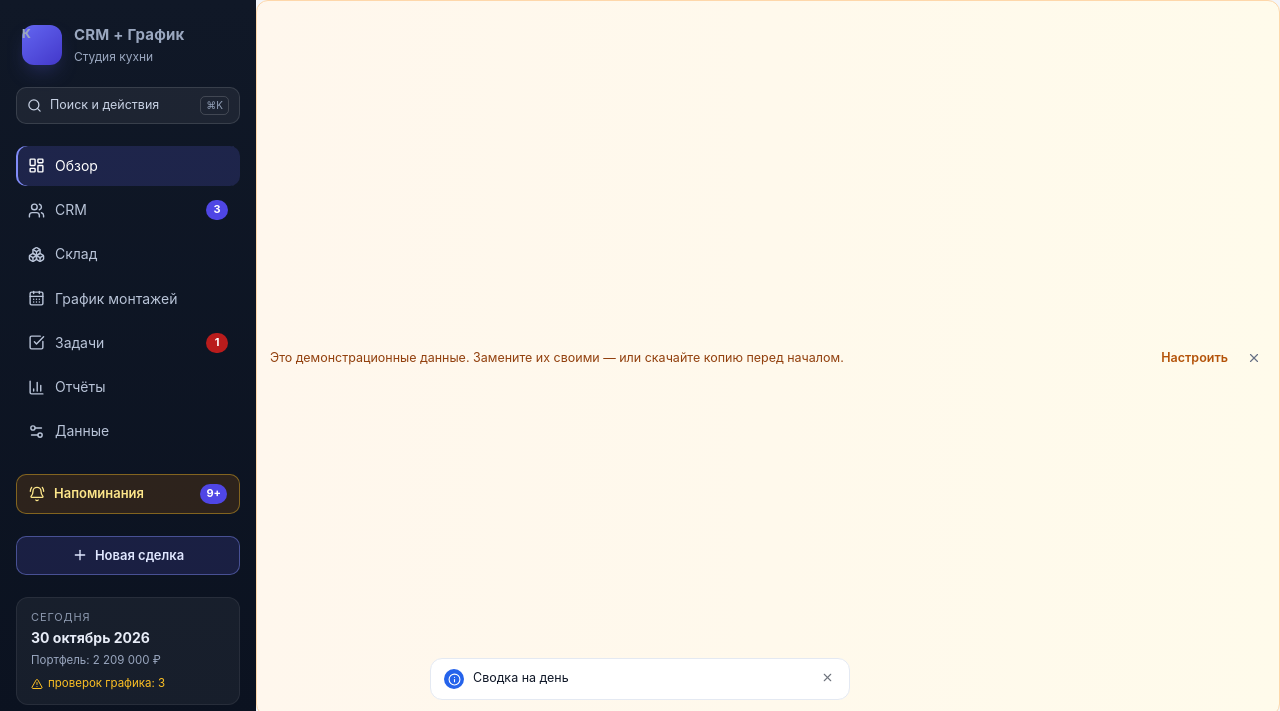
раздел «Отчёты» › показывает ошибку, если своя дата «с» позже «по»
Click the button "Отчёты". click: coordinates (128, 387)
box: [16, 367, 240, 407]
(page scrolled)
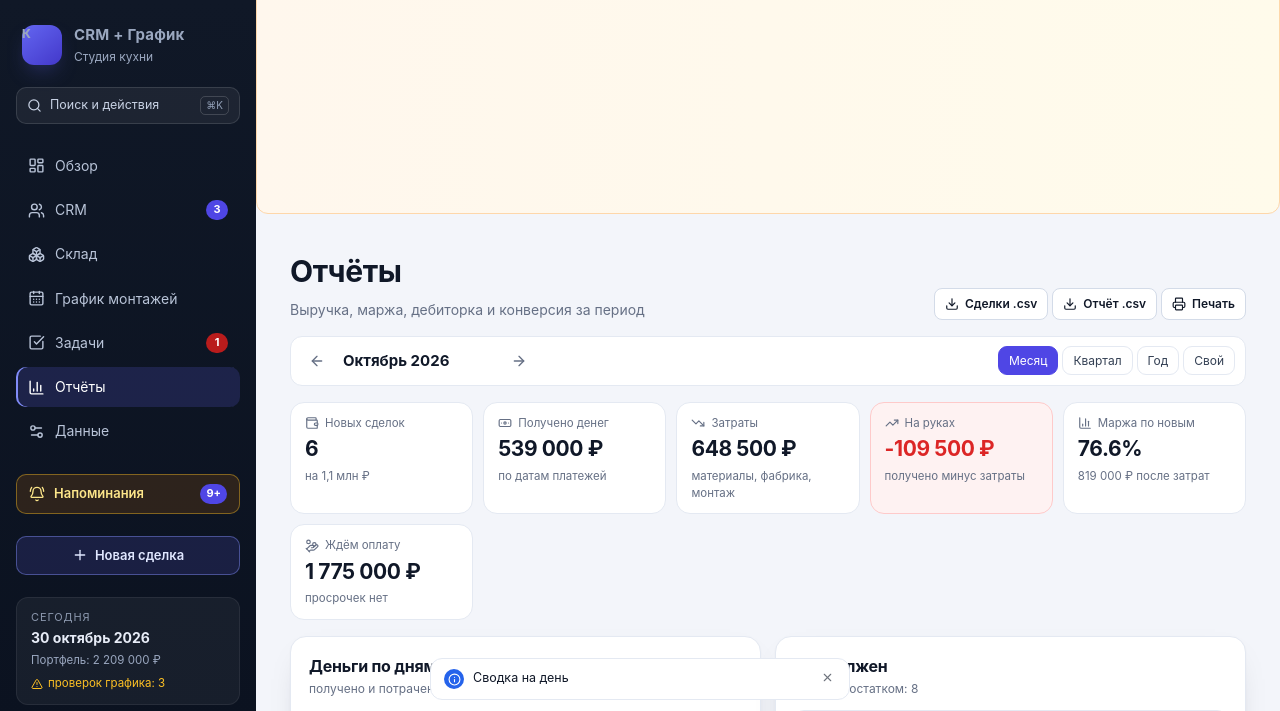
Click the button "Свой". click: coordinates (1209, 361)
box: [1183, 346, 1235, 376]
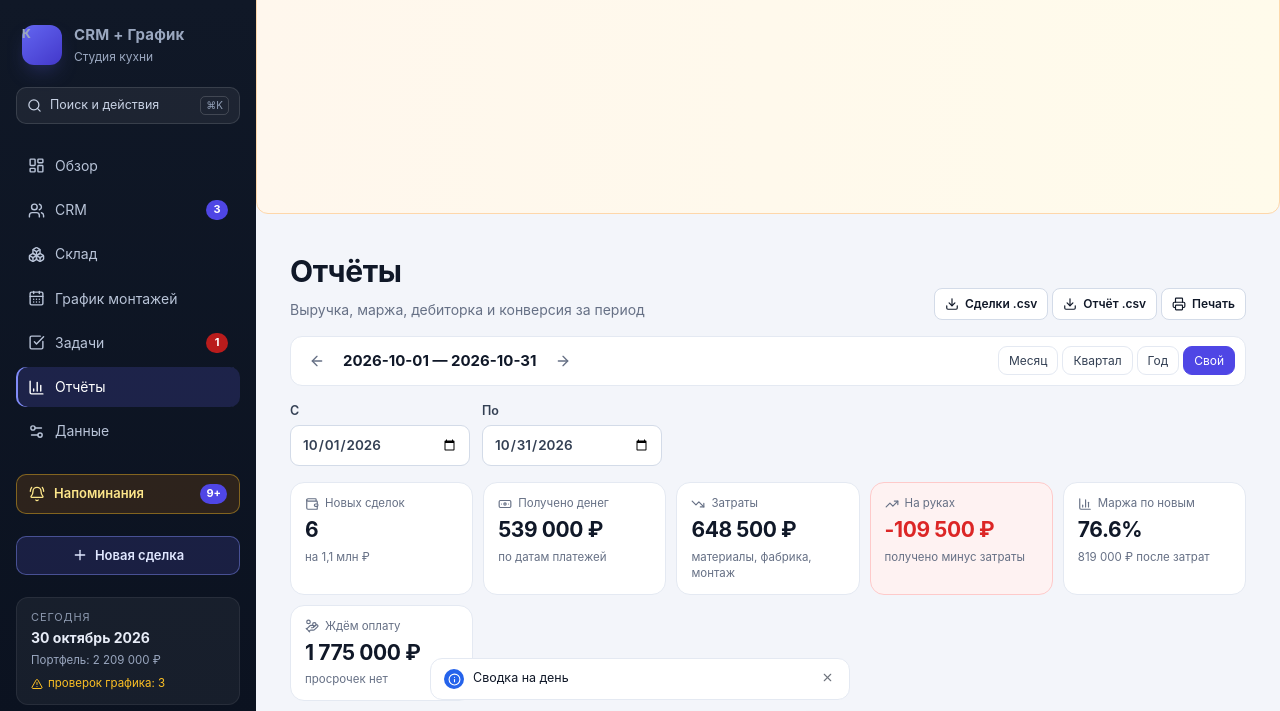
Type "2026-10-20" into the date field labelled "С". click: coordinates (380, 446)
box: [290, 425, 470, 466]
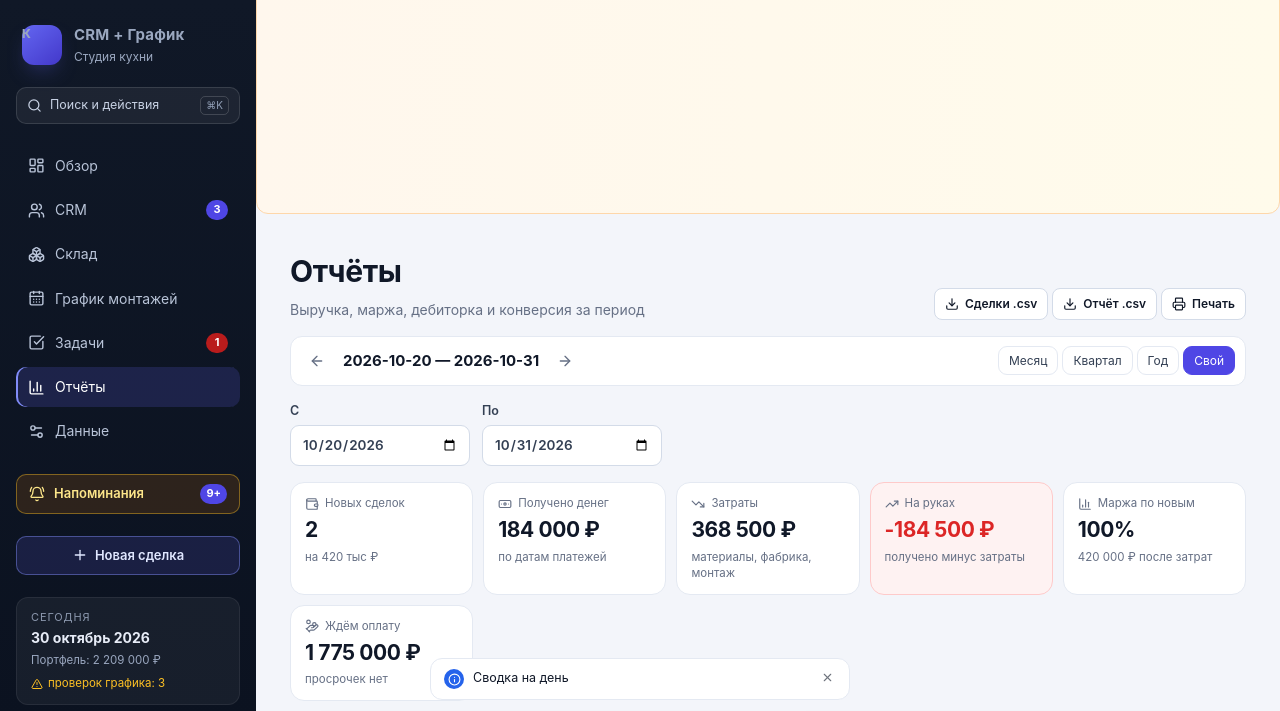
Type "2026-10-01" into the date field labelled "По". click: coordinates (572, 446)
box: [482, 425, 662, 466]
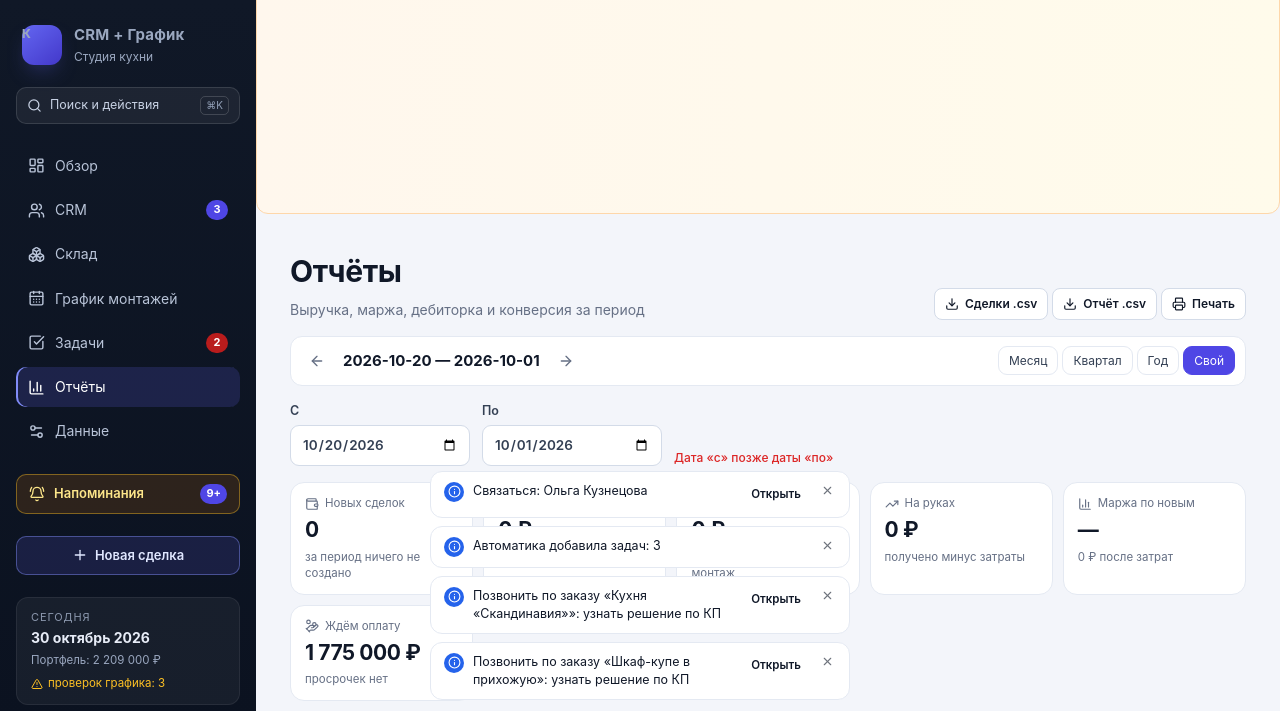
Result: the text "Дата «с» позже даты «по»" is shown at [674, 449, 833, 466]
